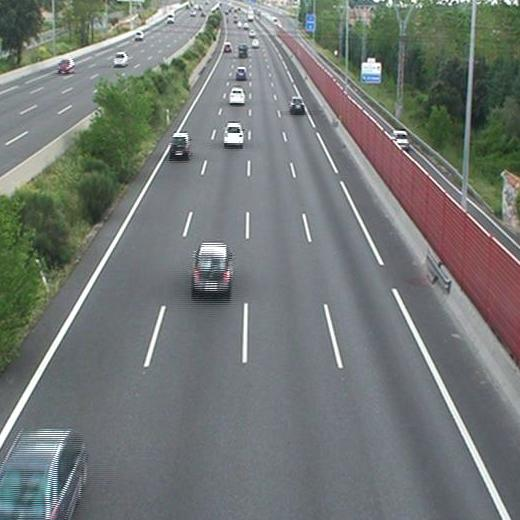car: (1, 429, 86, 520), (193, 243, 232, 295), (170, 134, 190, 158), (224, 123, 243, 144), (229, 89, 245, 104), (289, 98, 304, 112), (235, 67, 245, 79), (222, 43, 231, 52)
van: (238, 43, 248, 57)
